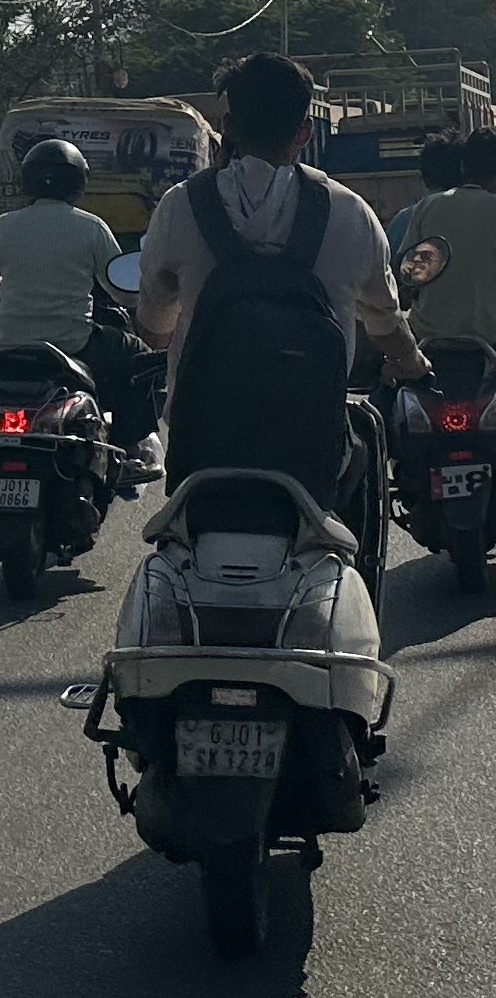BikeWithRider: (51, 44, 456, 974), (0, 127, 175, 609), (359, 115, 495, 604)
Helmet: (9, 130, 98, 215)
NoHelmet: (206, 44, 324, 183)
